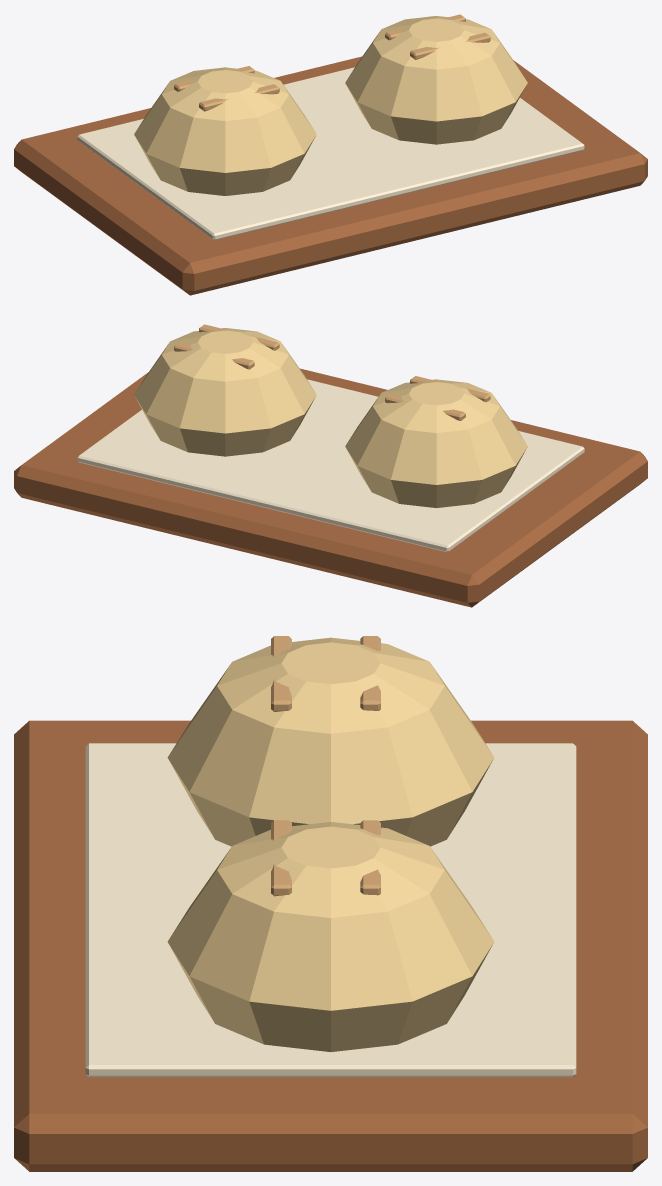
The model's file is 10_Pastry_Tray.glb.
The picture shows the model from 3 angles, top to bottom: view 1: azimuth 30°, elevation 25°; view 2: azimuth 150°, elevation 25°; view 3: azimuth 270°, elevation 25°; orthographic projection. The views are drawn at different scales.
Visible parts, largest first — view 1: 10_Pastry_Tray__Body; view 2: 10_Pastry_Tray__Body; view 3: 10_Pastry_Tray__Body.
Boxes of the visible parts, x1,y1,x2,y2 form: 10_Pastry_Tray__Body: (14, 14, 647, 295); 10_Pastry_Tray__Body: (14, 324, 647, 607); 10_Pastry_Tray__Body: (14, 636, 647, 1171).
Bounding box in the file's own units: 1.94 × 0.49 × 1.28.
1 material, 1 textured.
